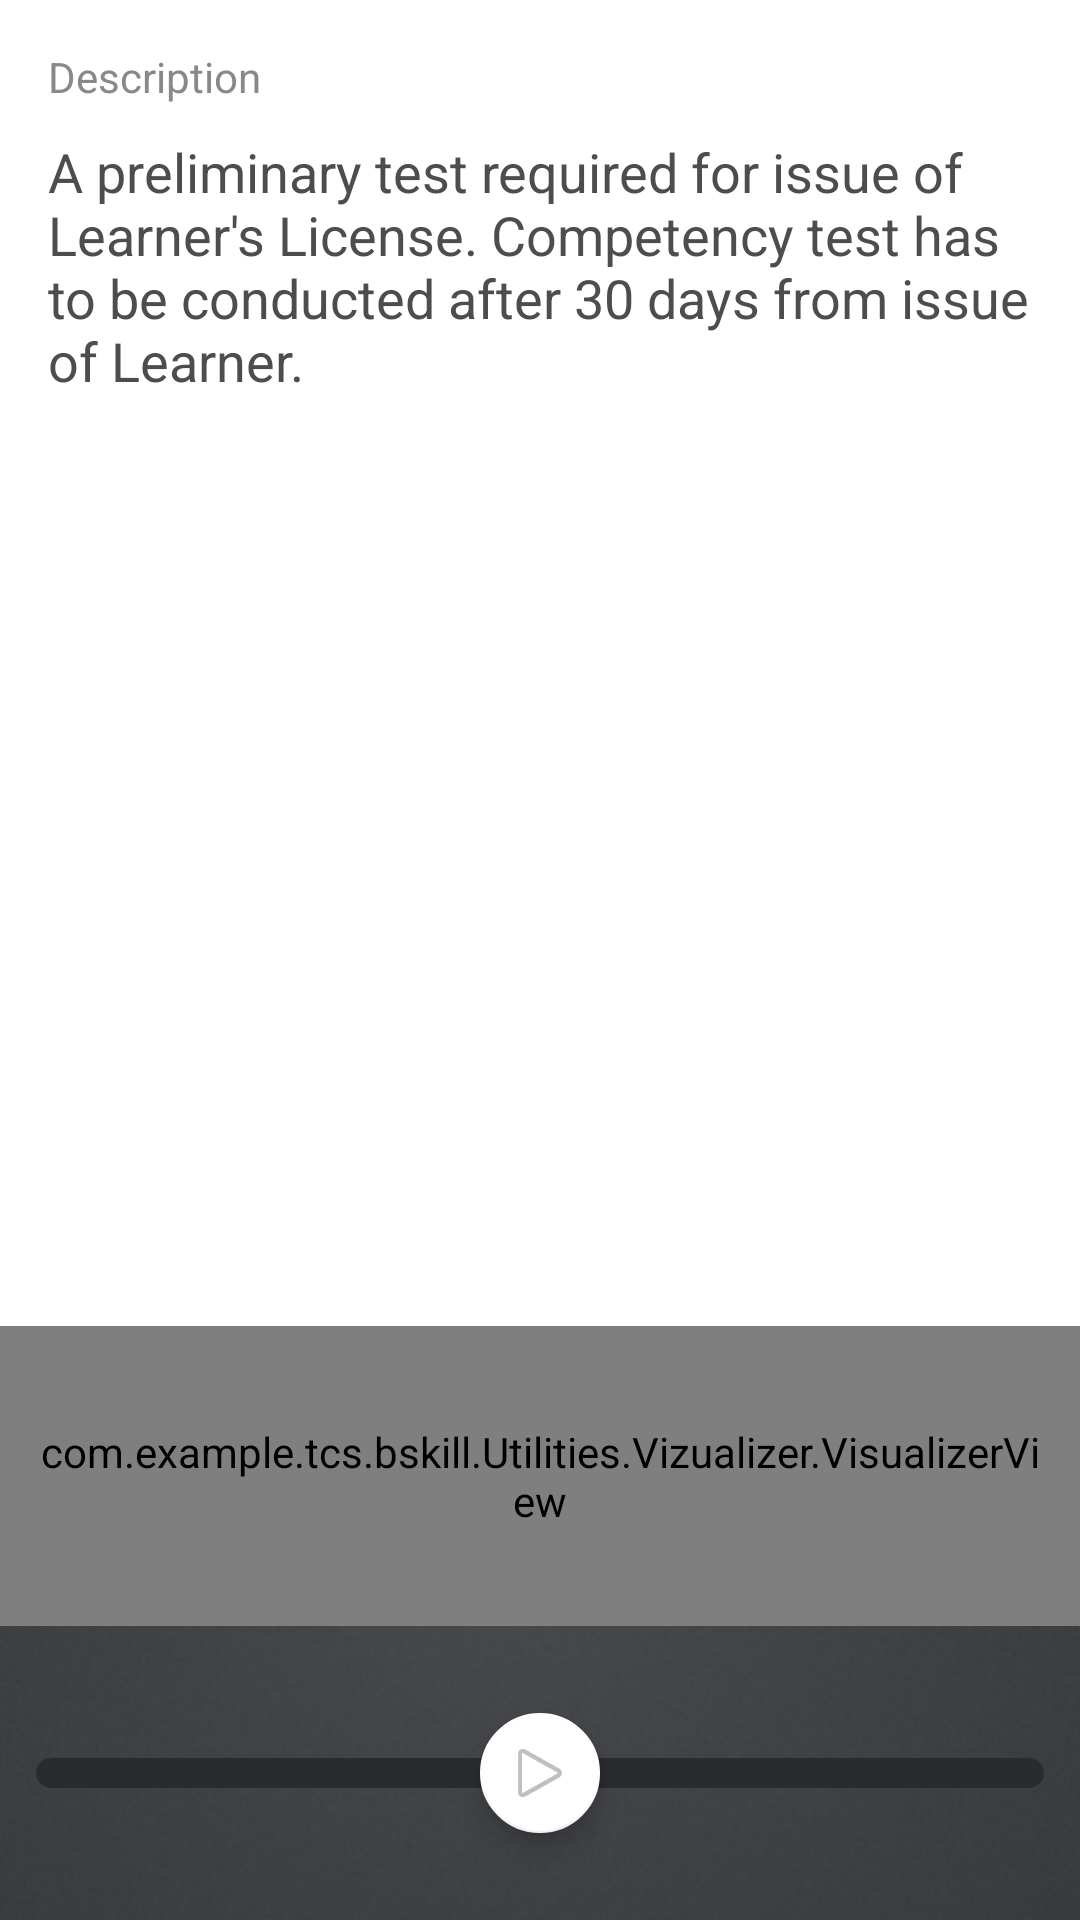

Where icons sit on this 1080px×1920px app screen, as (x1,y1,x2,y2):
play: (480,1713,600,1833)
